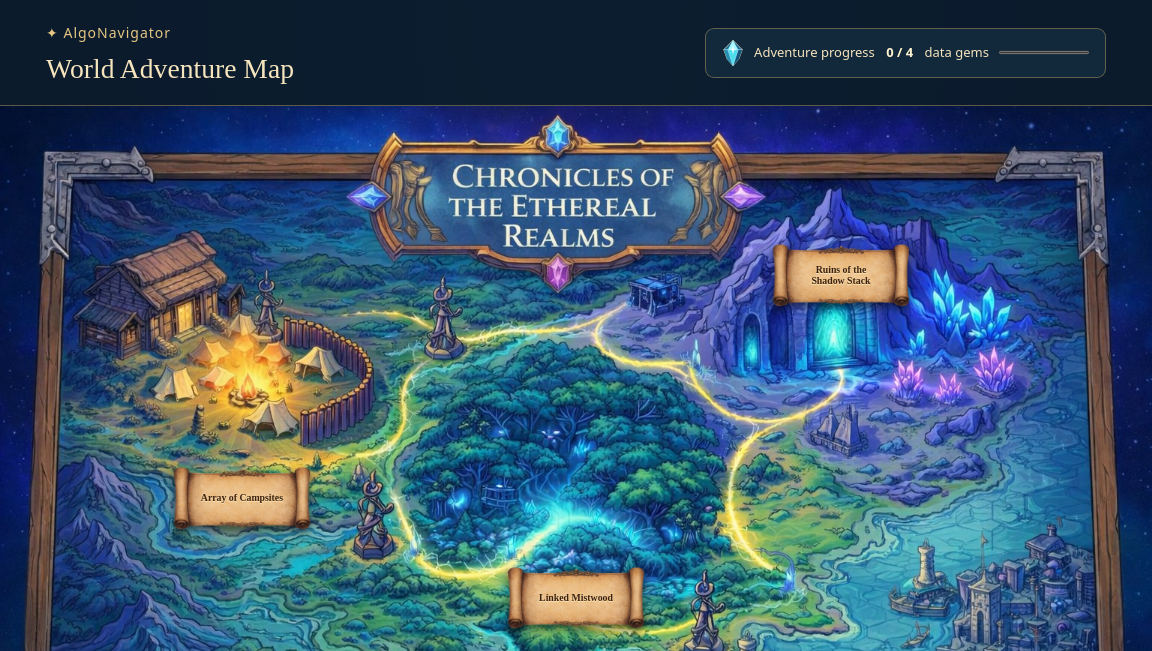
App › opens Array from the map without requiring Stack completion
Click the button with aria-label "Supply Camp · Array".
click(242, 498)  # box [173,466,311,529]
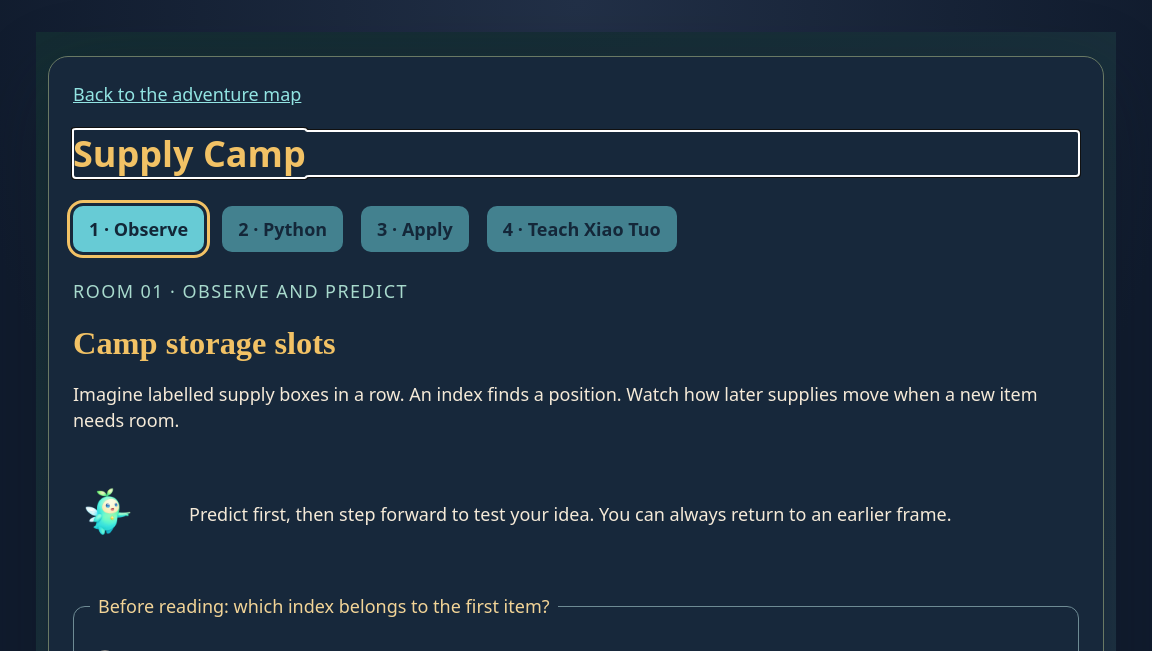
Result: the heading "Camp storage slots" is shown at [73,324,336,360]
Result: the button "2 · Python" is disabled at [222,206,343,252]
Result: the button "4 · Teach Xiao Tuo" is disabled at [487,206,677,252]
